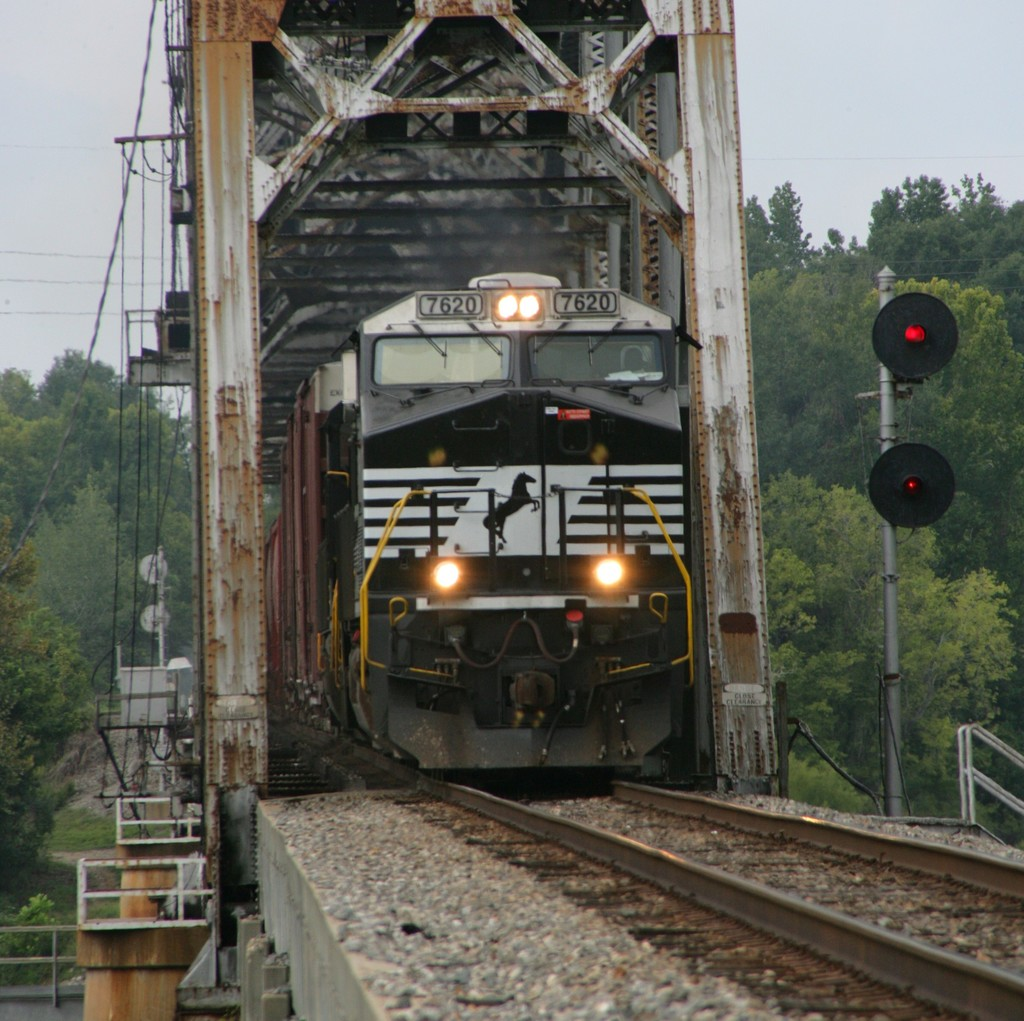train: (263, 261, 701, 769)
